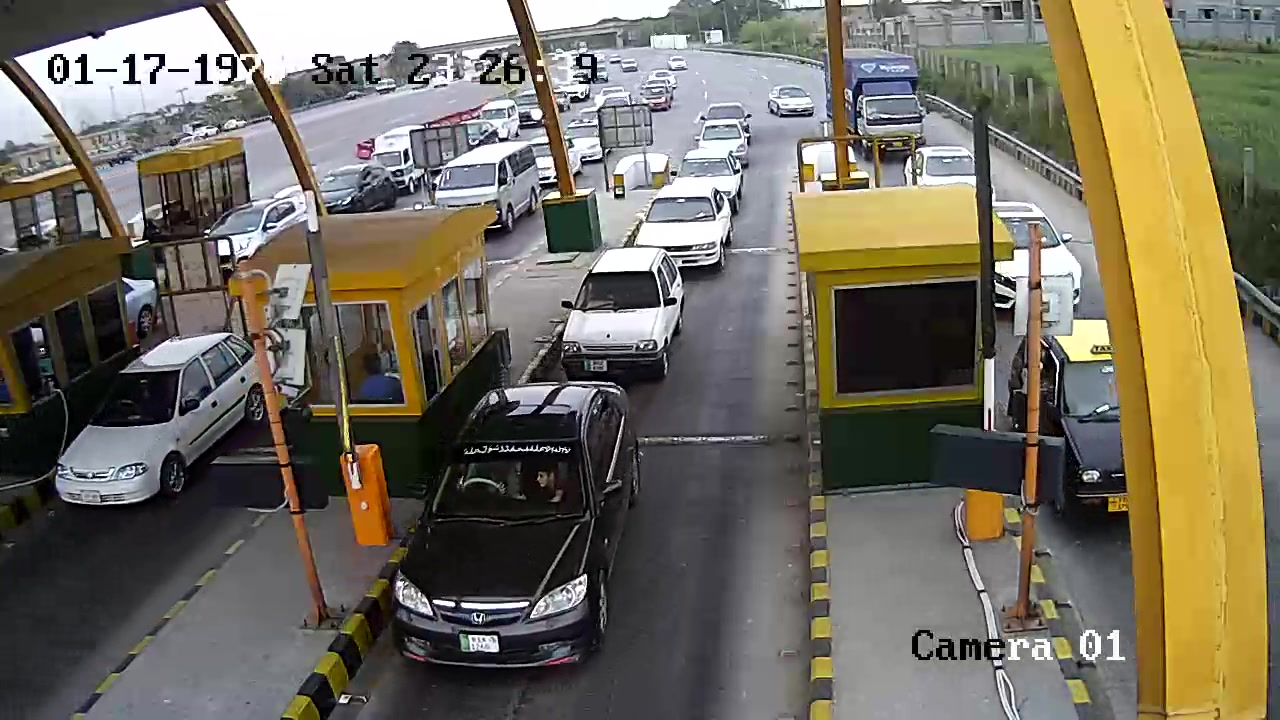F1: (388, 378, 665, 668), (539, 233, 688, 383)
